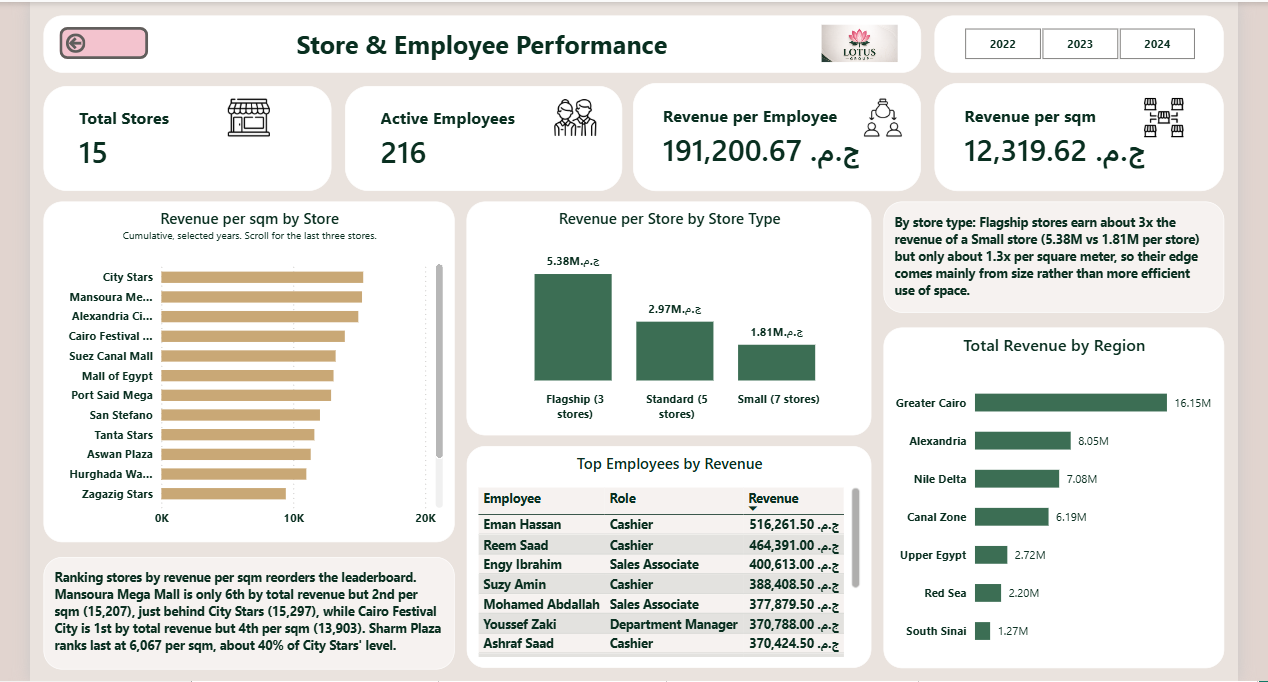

This screenshot's page, from the dashboard's own definition file:
{"tool":"powerbi","page":{"name":"Store & Employee Performance","canvas":[1280,720],"ordinal":4},"visuals":[{"type":"cardVisual","fields":{"Data":["_Measures.Total Stores"]},"box":[14.3,89.1,305.4,111.3],"z":0},{"type":"cardVisual","fields":{"Data":["_Measures.Active Employee Count"]},"box":[334,89.1,294.3,111.3],"z":1000},{"type":"cardVisual","fields":{"Data":["_Measures.Revenue per Employee"]},"box":[639.4,85.9,305.4,114.5],"z":2000},{"type":"cardVisual","fields":{"Data":["_Measures.Revenue per sqm"]},"box":[959.1,85.9,307,114.5],"z":3000},{"type":"clusteredBarChart","title":"Revenue per sqm by Store","fields":{"Category":["dim_stores.store_name"],"Y":["_Measures.Revenue per sqm"]},"box":[14.3,211.6,435.8,361.1],"z":4000},{"type":"clusteredColumnChart","title":"Revenue per Store by Store Type","fields":{"Y":["_Measures.Revenue per Store"],"Category":["dim_stores.Store Type Label"]},"box":[462.9,211.6,429.5,248.1],"z":5000},{"type":"tableEx","title":"Top Employees by Revenue","fields":{"Values":["dim_employees.Employee Full Name","dim_employees.role","_Measures.Total Revenue"]},"box":[462.9,470.8,429.5,235.4],"z":6000},{"type":"clusteredBarChart","title":"Total Revenue by Region","fields":{"Category":["dim_stores.region"],"Y":["_Measures.Total Revenue"]},"box":[905.1,345.2,361.1,361.1],"z":7000},{"type":"shape","box":[14.3,14.3,930.5,60.4],"z":8000},{"type":"actionButton","box":[28.6,23.9,100,40],"z":9000},{"type":"slicer","fields":{"Values":["dim_date.year"]},"box":[959.1,14.3,307,60.4],"z":10000},{"type":"textbox","box":[14.3,588.5,435.8,119.3],"z":11000},{"type":"textbox","box":[905.1,211.6,361.1,117.7],"z":12000},{"type":"image","box":[1158,100.2,89.1,44.5],"z":13000},{"type":"image","box":[870.1,100.2,68.4,44.5],"z":14000},{"type":"image","box":[200.4,100.2,63.6,44.5],"z":15000},{"type":"image","box":[539.2,100.2,77.9,44.5],"z":16000},{"type":"image","box":[820.8,23.9,117.7,39.8],"z":17000}]}

Visuals, with their boxes on the page's 1280x720 design canvas (x1, y1, x2, y2). These are canvas units, not pixel positions in the 1268x682 screenshot, which may show the page scaled, cropped or inside an application window:
cardVisual - _Measures.Total Stores: 14:89:320:200
cardVisual - _Measures.Active Employee Count: 334:89:628:200
cardVisual - _Measures.Revenue per Employee: 639:86:945:200
cardVisual - _Measures.Revenue per sqm: 959:86:1266:200
"Revenue per sqm by Store" clusteredBarChart: 14:212:450:573
"Revenue per Store by Store Type" clusteredColumnChart: 463:212:892:460
"Top Employees by Revenue" tableEx: 463:471:892:706
"Total Revenue by Region" clusteredBarChart: 905:345:1266:706
shape: 14:14:945:75
actionButton: 29:24:129:64
slicer - dim_date.year: 959:14:1266:75
textbox: 14:588:450:708
textbox: 905:212:1266:329
image: 1158:100:1247:145
image: 870:100:938:145
image: 200:100:264:145
image: 539:100:617:145
image: 821:24:938:64
